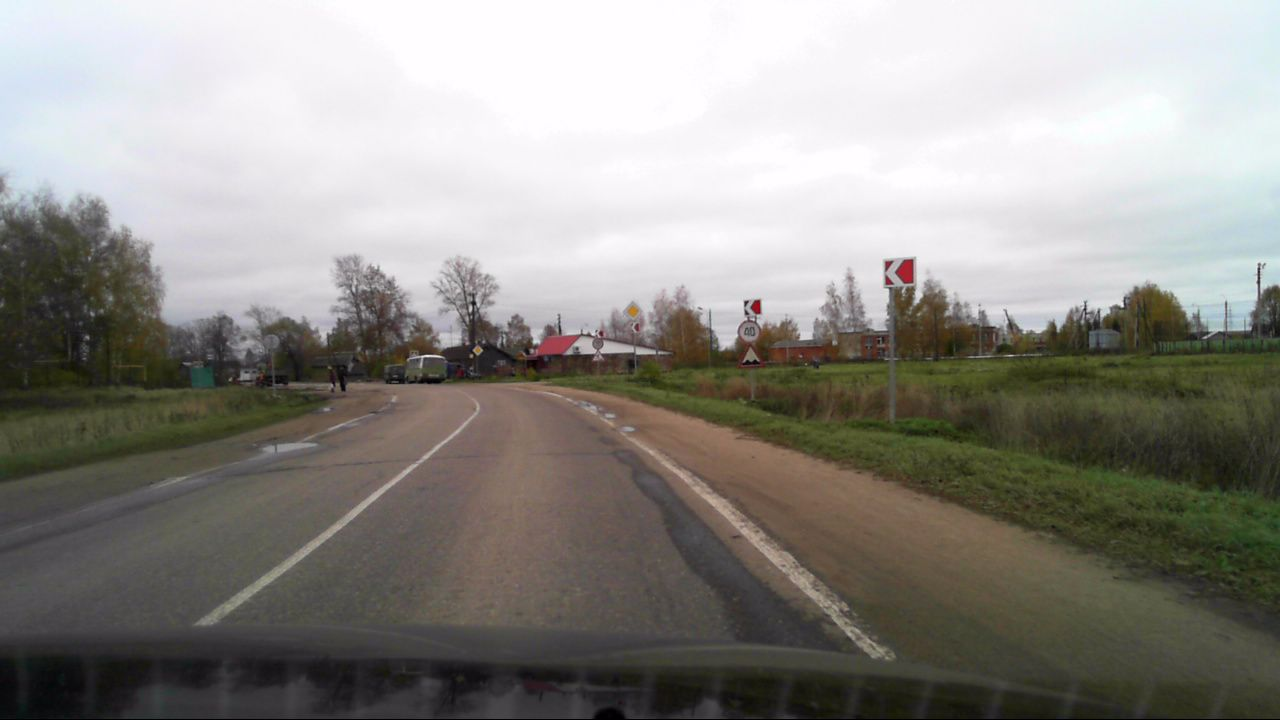speed_warning_40: (737, 320, 761, 344)
